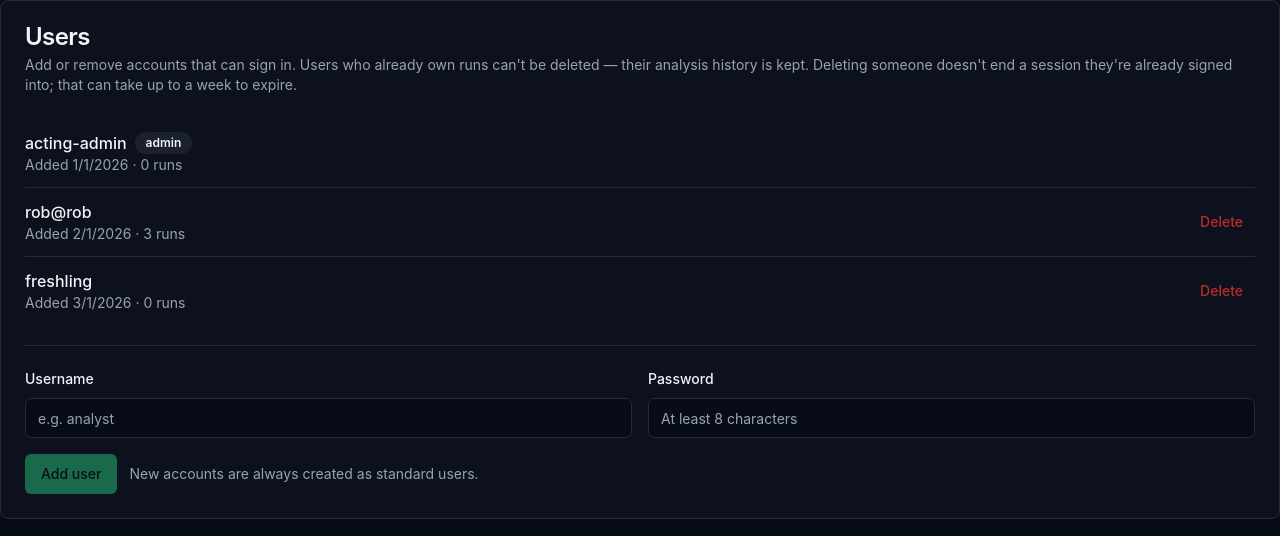
Test: UsersCard › does not delete on the first click — it only arms
Check: the text "freshling" is shown, box [25,269,92,293]
Step 1. Click the button with aria-label "delete freshling" → coordinates (1222, 291), box [1188,273,1255,309]
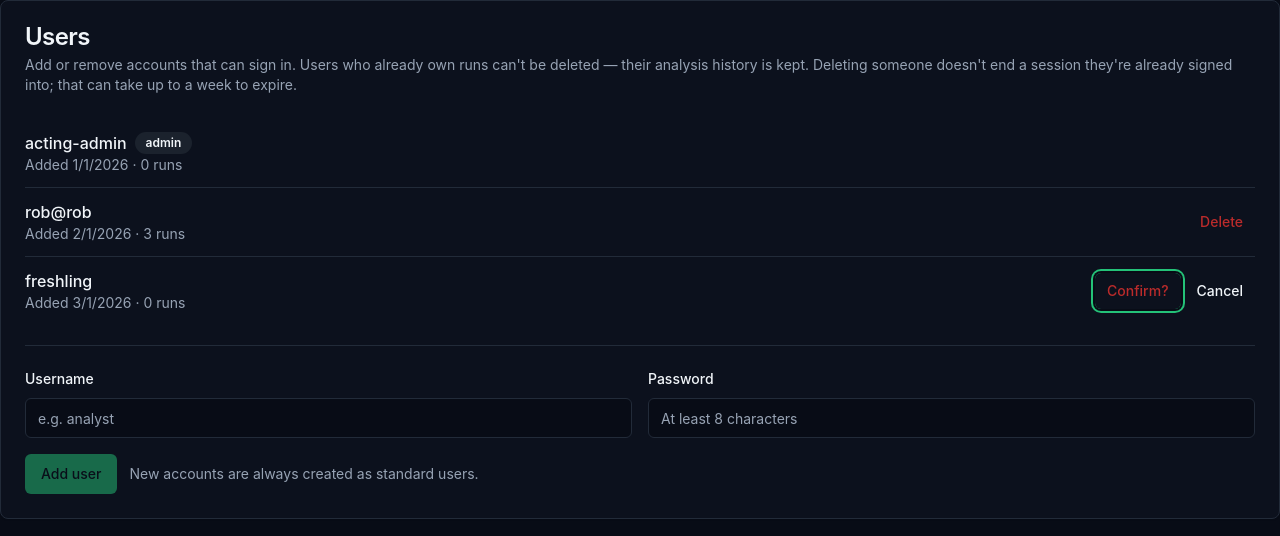
Check: the button with aria-label "confirm delete freshling" is shown, box [1095,273,1180,309]
